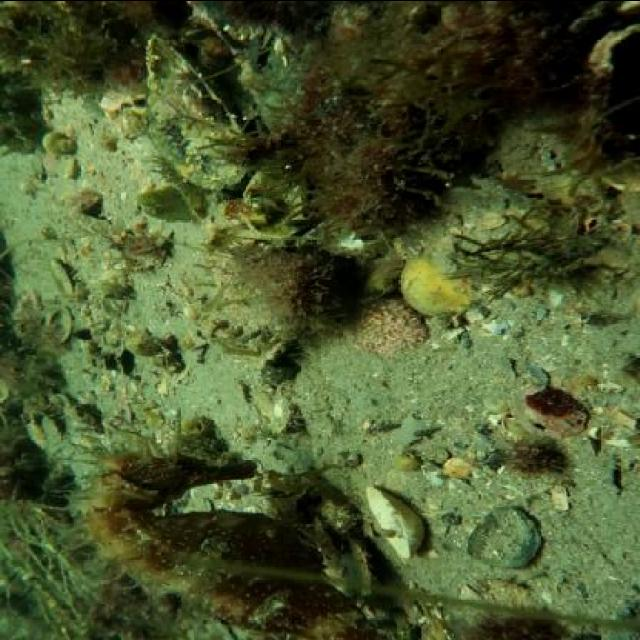Guttu: (80, 429, 266, 522)
